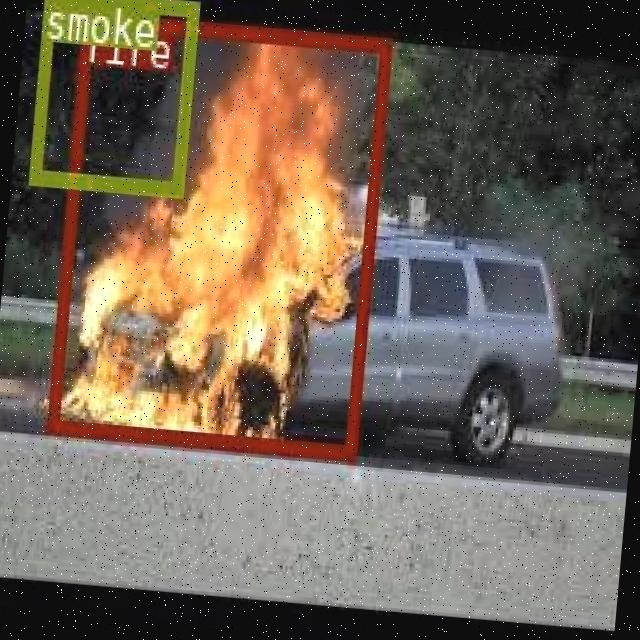fire: (43, 9, 390, 457)
smoke: (28, 0, 197, 193)
